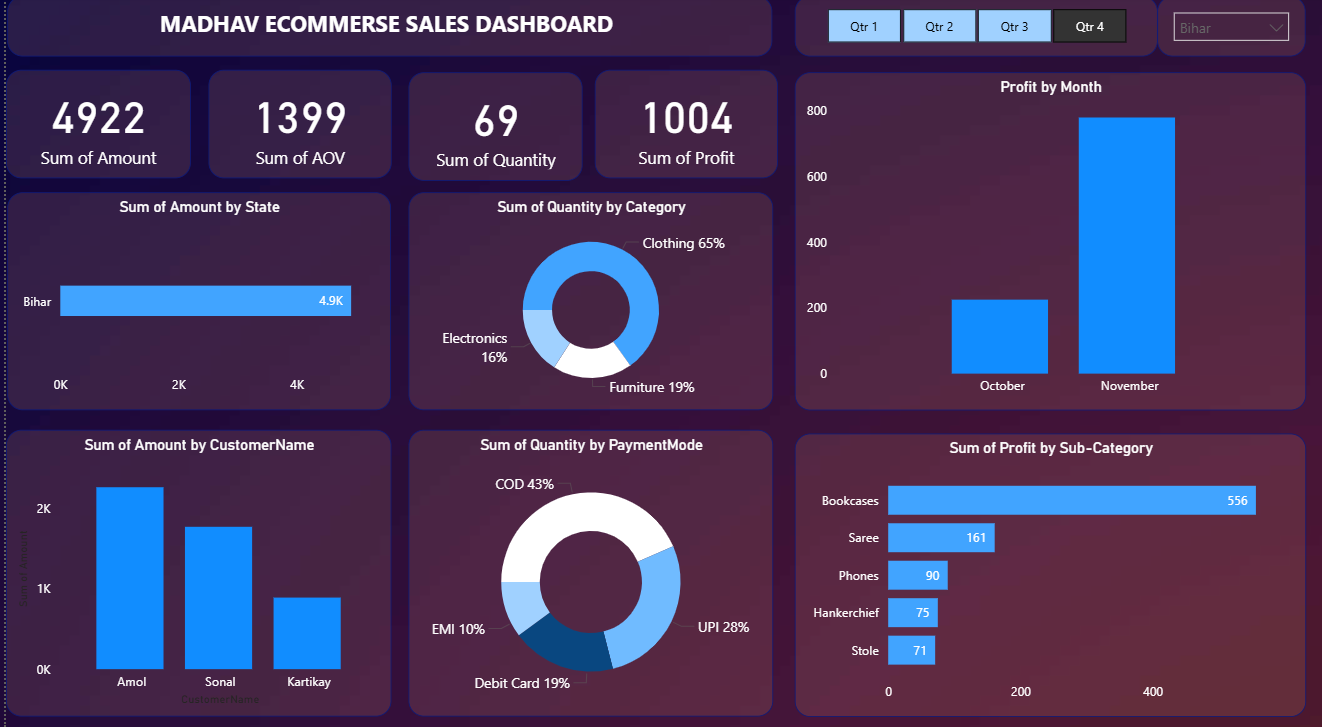

This screenshot's page, from the dashboard's own definition file:
{"tool":"powerbi","page":{"name":"Page 1","canvas":[1280,720],"ordinal":0},"visuals":[{"type":"textbox","box":[1.7,0,738.3,58.3],"z":0},{"type":"columnChart","title":"Profit by Month","fields":{"Y":["Sum(Details.Profit)"],"Category":["Orders (2).Order Date.Variation.Date Hierarchy.Month"]},"box":[761.7,73.3,493.3,326.7],"z":1000},{"type":"barChart","fields":{"Category":["Details.Sub-Category"],"Y":["Sum(Details.Profit)"]},"box":[761.7,421.7,493.3,273.3],"z":2000},{"type":"donutChart","fields":{"Category":["Details.Category"],"Y":["Sum(Details.Quantity)"]},"box":[388.3,190,351.7,210],"z":3000},{"type":"donutChart","fields":{"Category":["Details.PaymentMode"],"Y":["Sum(Details.Quantity)"]},"box":[388.3,418.3,351.7,276.7],"z":4000},{"type":"card","fields":{"Values":["Sum(Details.Quantity)"]},"box":[388.3,73.3,168.3,105],"z":5000},{"type":"card","fields":{"Values":["Sum(Details.Amount)"]},"box":[0,71.7,178.3,105],"z":6000},{"type":"card","fields":{"Values":["Sum(Details.Profit)"]},"box":[568.3,71.7,176.7,105],"z":7000},{"type":"card","fields":{"Values":["Sum(Details.AOV)"]},"box":[195,71.7,176.7,105],"z":8000},{"type":"barChart","fields":{"Y":["Sum(Details.Amount)"],"Category":["Orders (2).State"]},"box":[1.7,190,370,210],"z":9000},{"type":"columnChart","fields":{"Category":["Orders (2).CustomerName"],"Y":["Sum(Details.Amount)"]},"box":[0,418.3,371.7,276.7],"z":10000},{"type":"slicer","fields":{"Values":["Orders (2).Order Date.Variation.Date Hierarchy.Quarter"]},"box":[761.7,0,350,58.3],"z":11000},{"type":"slicer","fields":{"Values":["Orders (2).State"]},"box":[1111.7,0,143.3,58.3],"z":12000}]}

Visuals, with their boxes in screenshot pixels (x1, y1, x2, y2), scaled from the page's 1280x720 canvas onto the 1322x727 screenshot:
textbox: 2:0:764:59
"Profit by Month" columnChart: 787:74:1296:404
barChart - Details.Sub-Category x Sum(Details.Profit): 787:426:1296:702
donutChart - Details.Category x Sum(Details.Quantity): 401:192:764:404
donutChart - Details.PaymentMode x Sum(Details.Quantity): 401:422:764:702
card - Sum(Details.Quantity): 401:74:575:180
card - Sum(Details.Amount): 0:72:184:178
card - Sum(Details.Profit): 587:72:769:178
card - Sum(Details.AOV): 201:72:384:178
barChart - Sum(Details.Amount) x Orders (2).State: 2:192:384:404
columnChart - Orders (2).CustomerName x Sum(Details.Amount): 0:422:384:702
slicer - Orders (2).Order Date.Variation.Date Hierarchy.Quarter: 787:0:1148:59
slicer - Orders (2).State: 1148:0:1296:59
